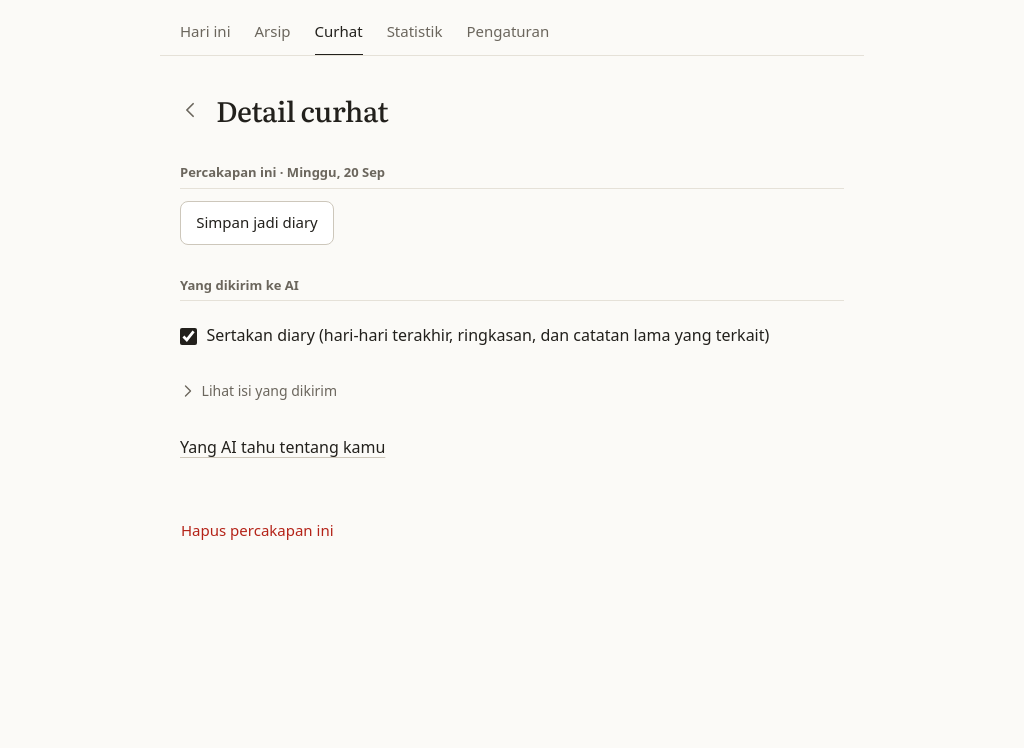
Scenario: a blank draft cannot be appended
Click the button "Simpan jadi diary". click: (257, 223)
box: 180,201 -> 334,245
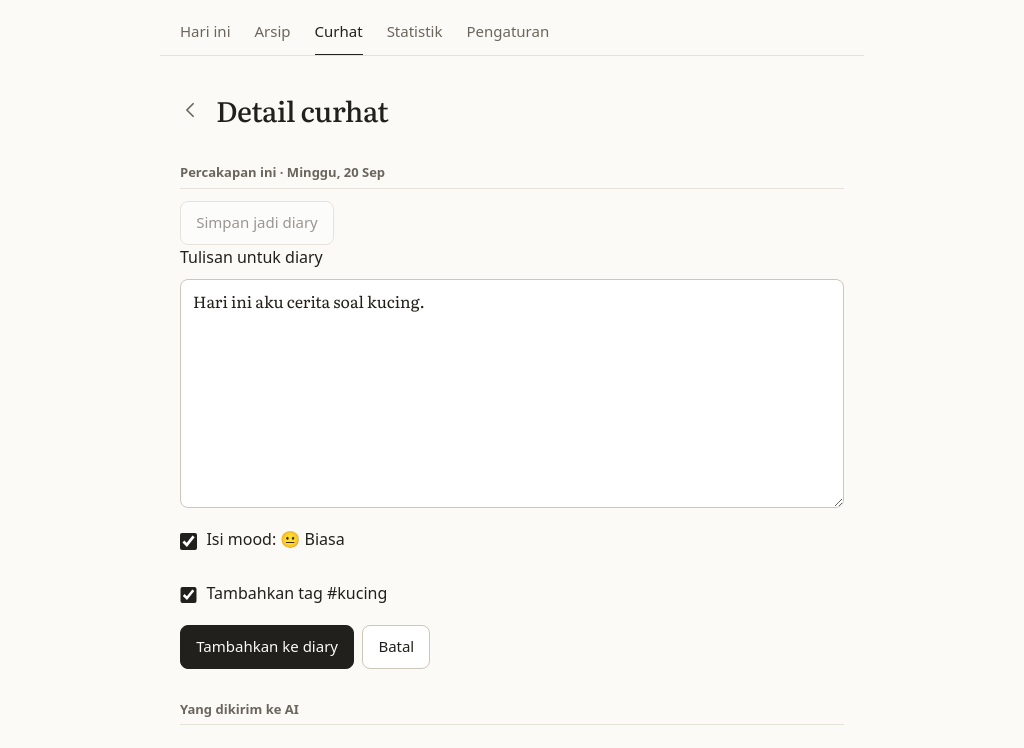
Clear the text box labelled "Tulisan untuk diary". click: (512, 394)
box: 180,279 -> 844,508
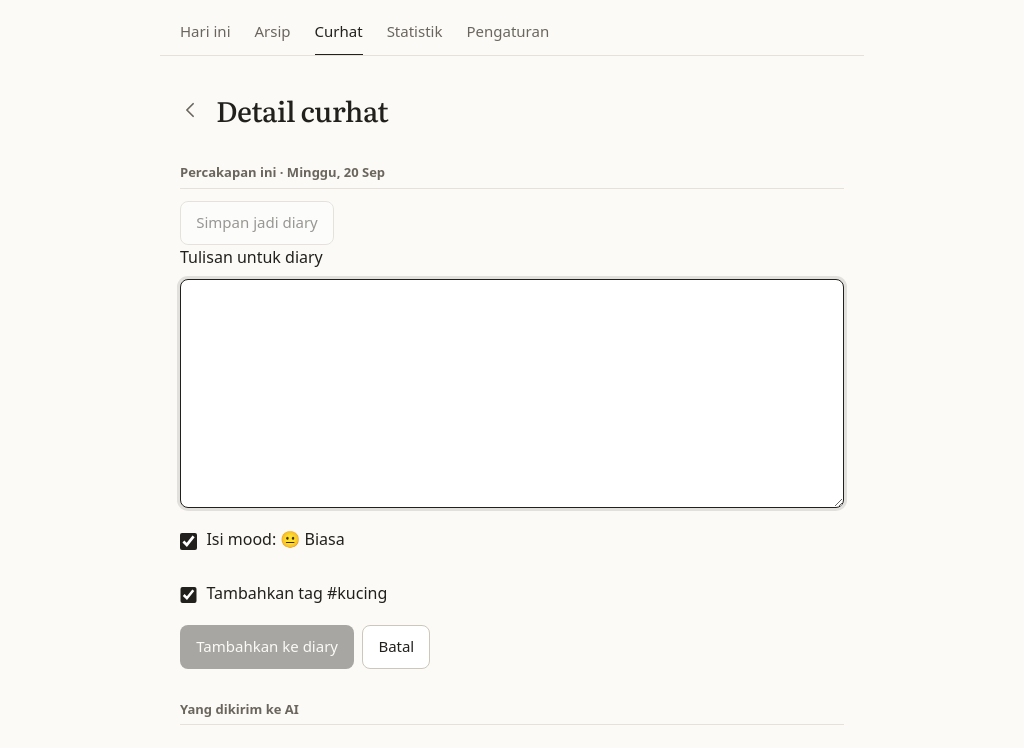
Result: the button "Tambahkan ke diary" is disabled at 180,625 -> 354,669
